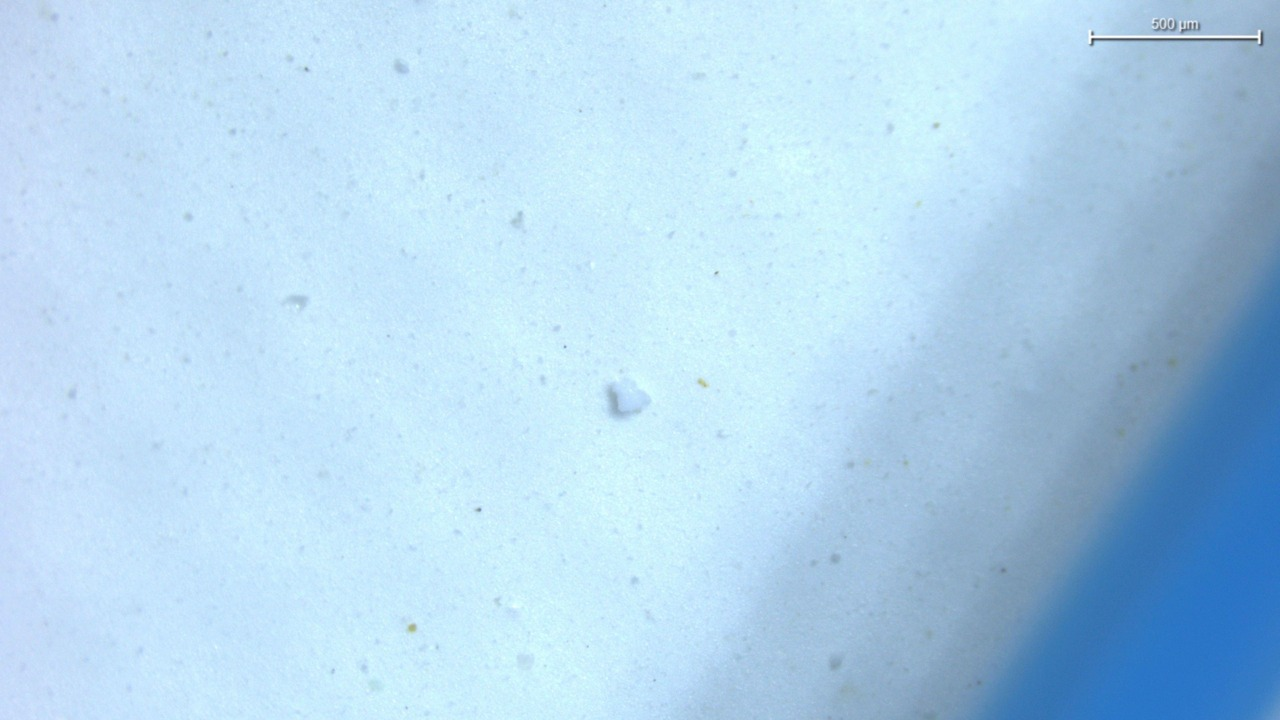microplastic_fragment: (606, 377, 650, 418)
